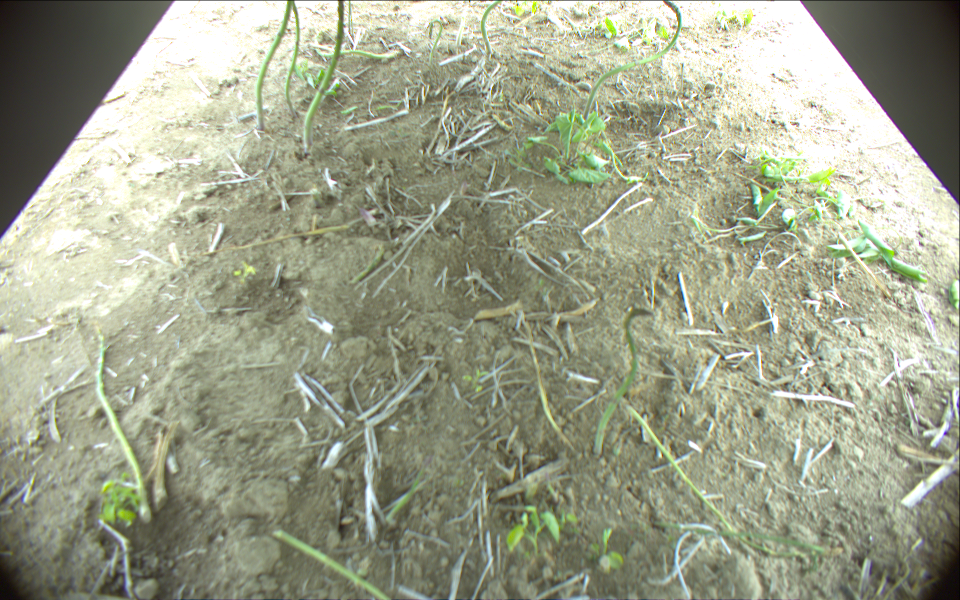aspa: (617, 398, 815, 558), (582, 1, 683, 121), (92, 329, 150, 519), (594, 304, 654, 456), (275, 526, 394, 600), (302, 1, 343, 151), (256, 1, 294, 129), (284, 1, 301, 117), (480, 1, 501, 55), (313, 48, 402, 58), (425, 18, 442, 64), (455, 1, 471, 47)
